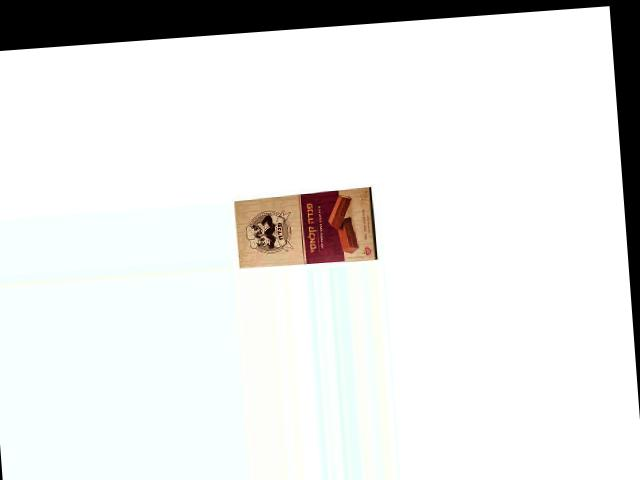chocolate: (233, 184, 377, 267)
